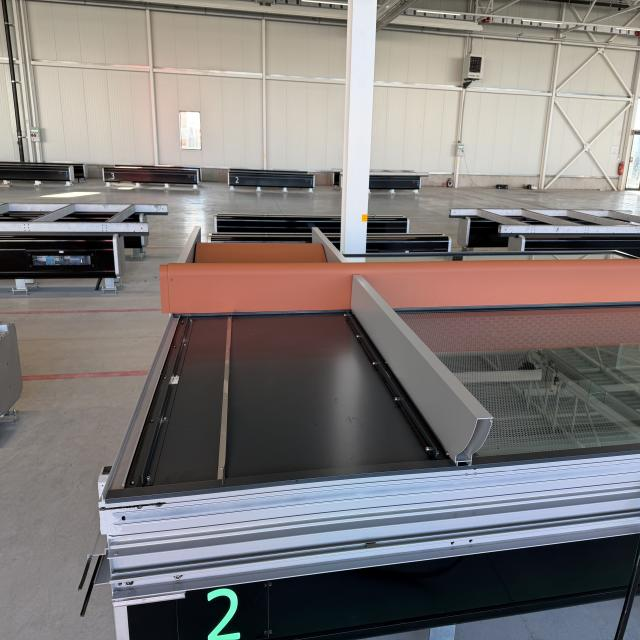brtva_ostecena: (595, 520, 640, 640)
lim_nedostaje: (206, 304, 247, 497)
